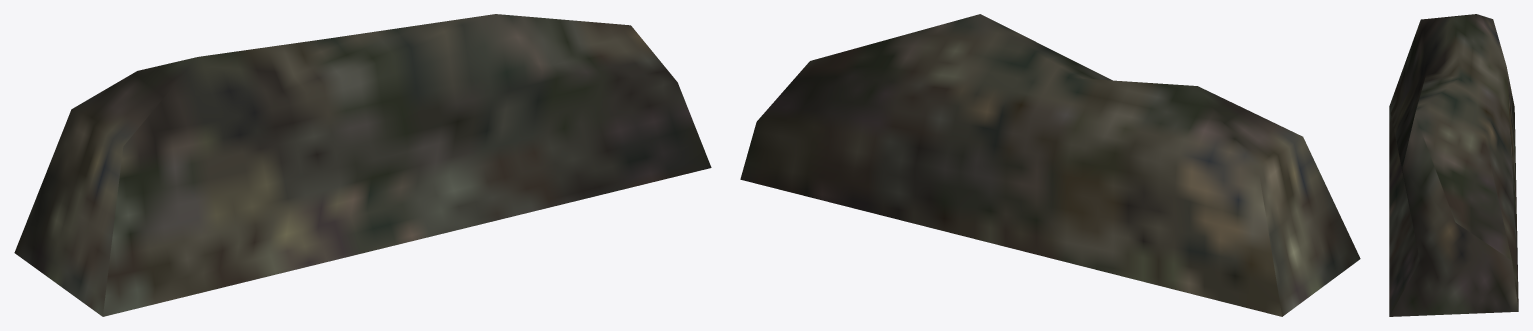
File: b_general_obj_16_01.fbx
The picture shows the model from 3 angles, left to right: view 1: azimuth 30°, elevation 25°; view 2: azimuth 150°, elevation 25°; view 3: azimuth 270°, elevation 25°; orthographic projection. The views are drawn at different scales.
Parts seen in each view (by area): view 1: Object03; view 2: Object03; view 3: Object03.
Part boxes in pixels (box(x1,y1,x2,y2)): Object03: box(14, 14, 711, 316); Object03: box(740, 14, 1360, 316); Object03: box(1389, 14, 1518, 316).
Size of the model in its own units: 1.81 by 0.5534 by 0.4715.
